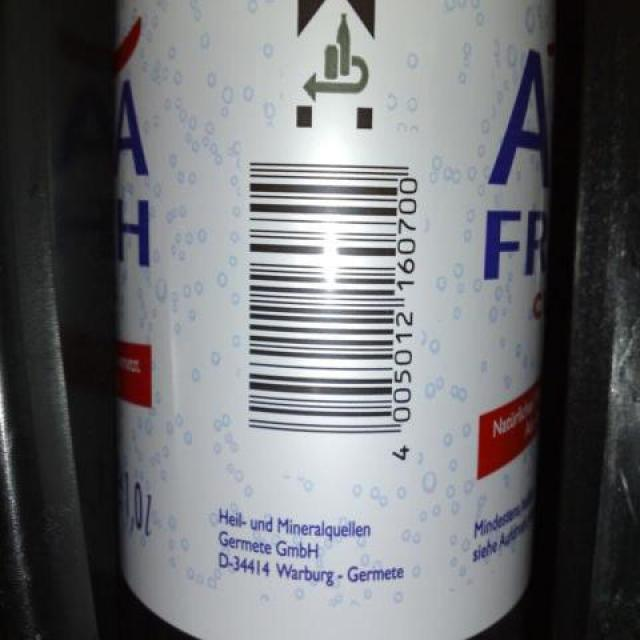Barcode: (240, 138, 424, 486)
